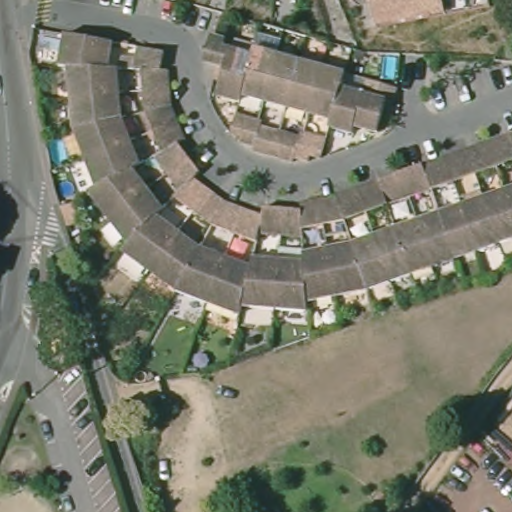pool: (47, 135, 70, 165), (379, 55, 402, 82), (55, 181, 76, 202)
